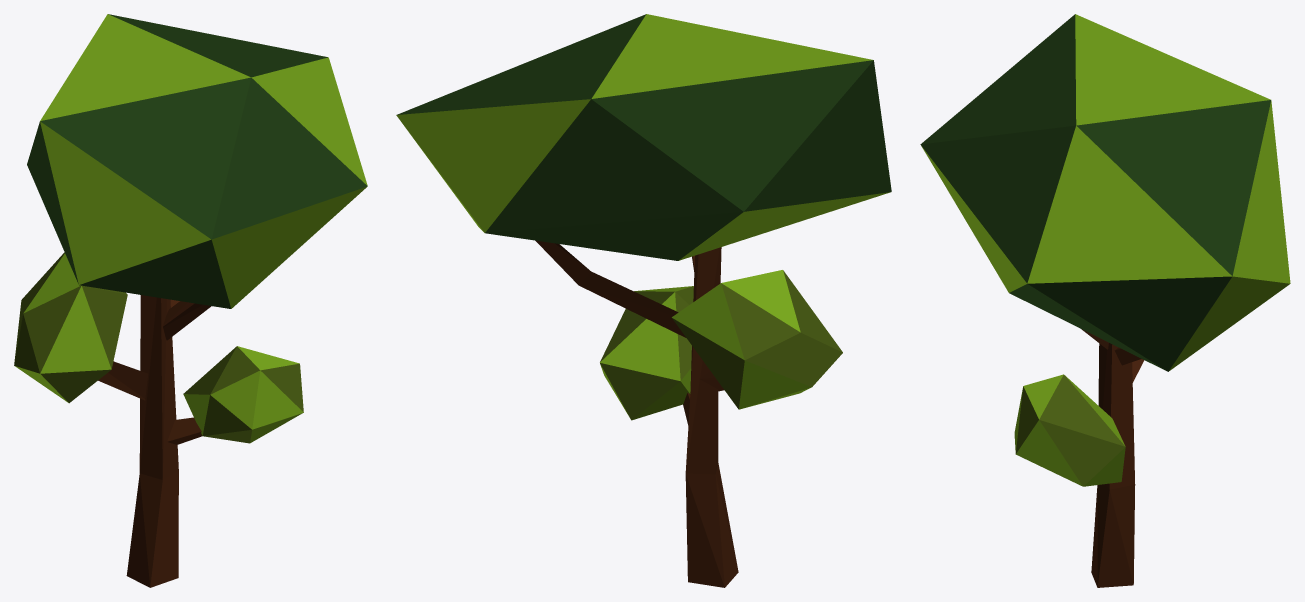
The model's file is Tree3_M2_5_medium.fbx.
3 renders of one model, left to right at view 1: azimuth 30°, elevation 25°; view 2: azimuth 150°, elevation 25°; view 3: azimuth 270°, elevation 25°, orthographic. The views are drawn at different scales.
Visible parts, largest first — view 1: Tree3_M2_5_medium; view 2: Tree3_M2_5_medium; view 3: Tree3_M2_5_medium.
Part boxes in pixels (x1,y1,x2,y2): Tree3_M2_5_medium: (14, 14, 367, 587); Tree3_M2_5_medium: (396, 14, 891, 587); Tree3_M2_5_medium: (920, 14, 1290, 587).
Bounding box in the file's own units: 373 × 486 × 325.
